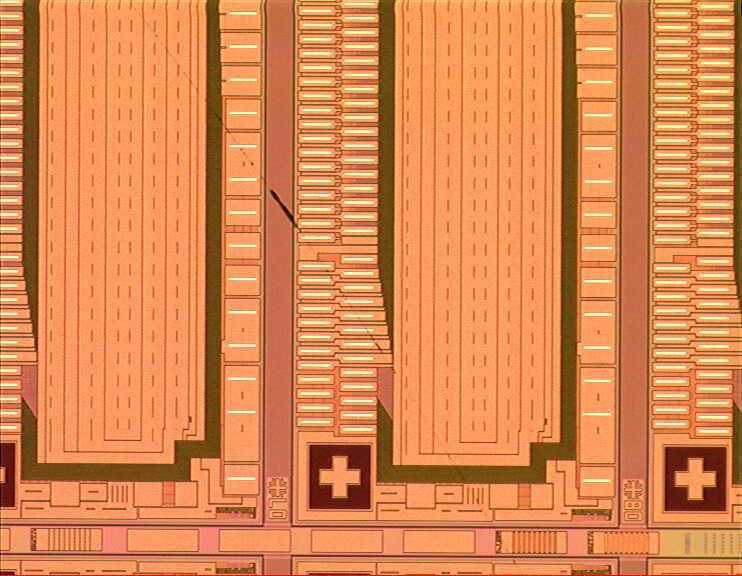SCRATCH: (118, 1, 541, 575)
